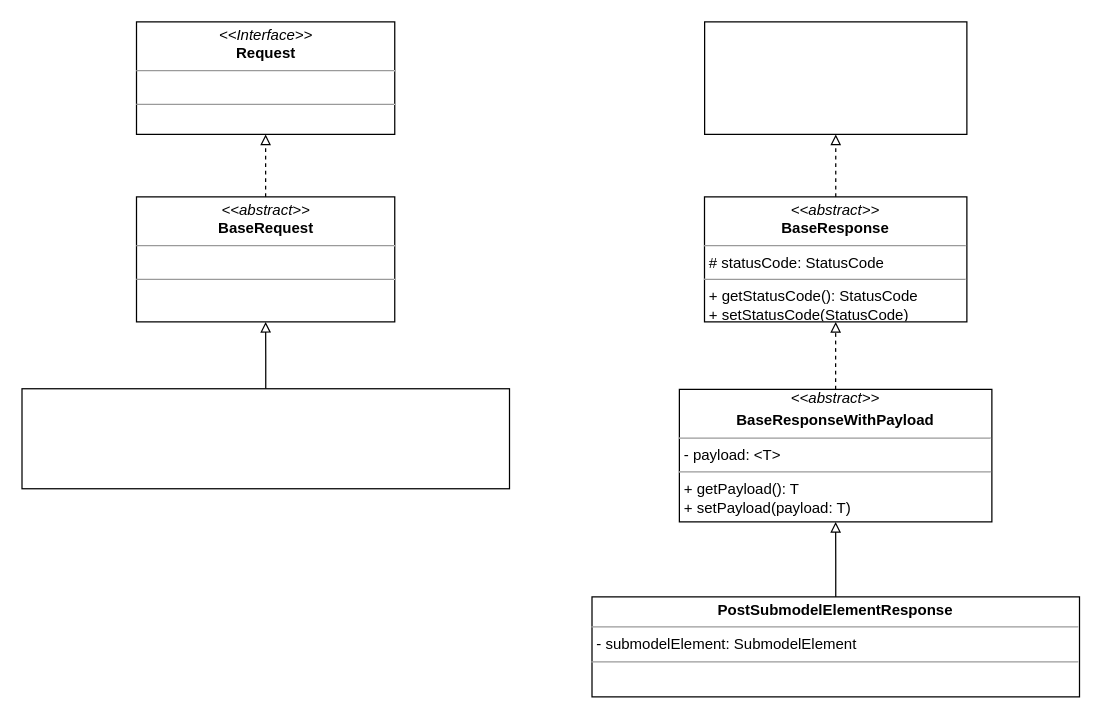
Some shapes in this 1101 by 719 pixel diagram are drawn without their labels. The shapes that lost their labels are listed below. From the top down, each one's centre as x and y in pixels, then its label:
At (x=835, y=77): "<<Interface>> Response".
At (x=265, y=438): "PostSubmodelRequest - submodelElement: SubmodelElement".
